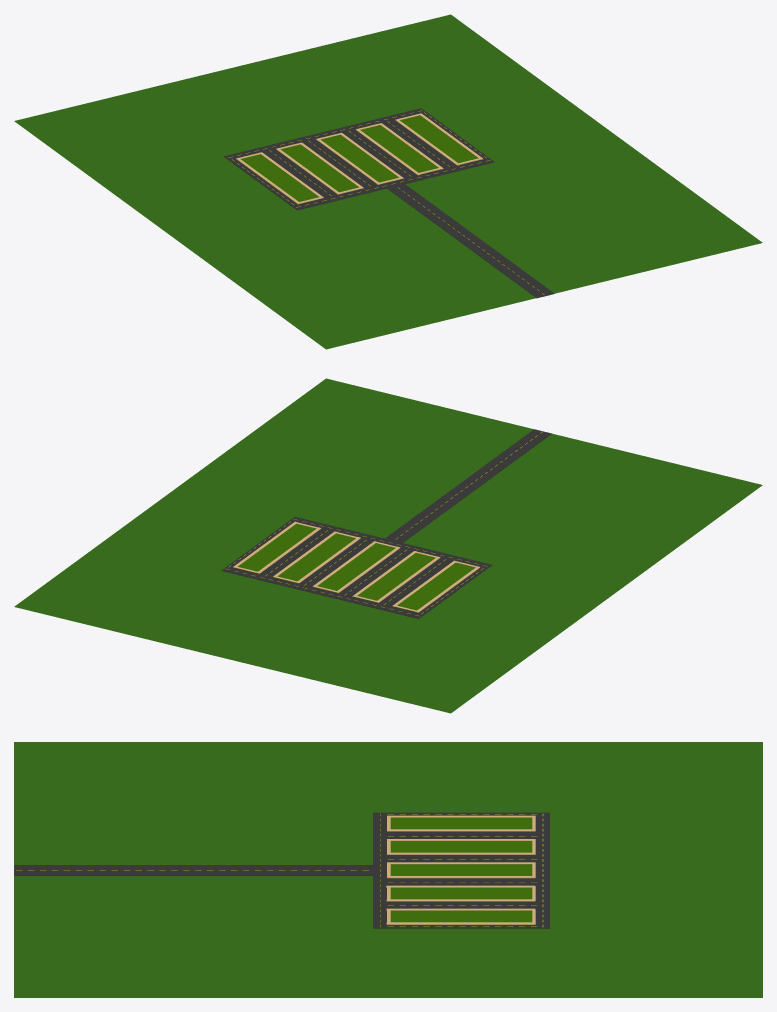
File: Suelo.glb
3 renders of one model, top to bottom at view 1: azimuth 30°, elevation 25°; view 2: azimuth 150°, elevation 25°; view 3: azimuth 270°, elevation 25°, orthographic. The views are drawn at different scales.
Parts seen in each view (by area): view 1: Suelo base; view 2: Suelo base; view 3: Suelo base.
Part boxes in pixels (box(x1,y1,x2,y2)): Suelo base: box(14, 14, 762, 349); Suelo base: box(14, 378, 762, 713); Suelo base: box(14, 742, 762, 997).
Bounding box in the file's own units: 187 × 0.5157 × 232.
